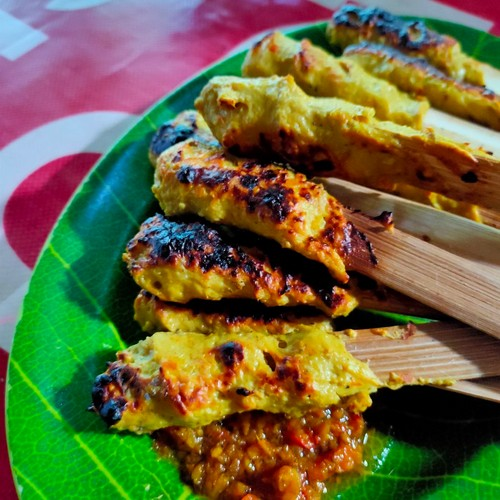sate languan: (89, 318, 391, 435), (192, 74, 471, 190), (147, 143, 384, 273), (120, 225, 365, 328)
